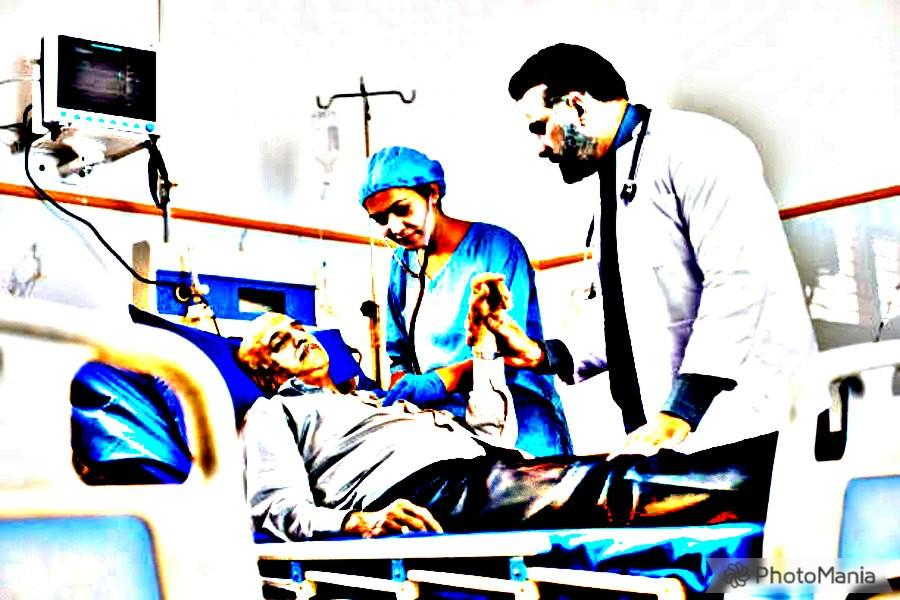Lab_coat: (547, 103, 838, 462), (231, 383, 540, 536), (368, 226, 544, 410)
